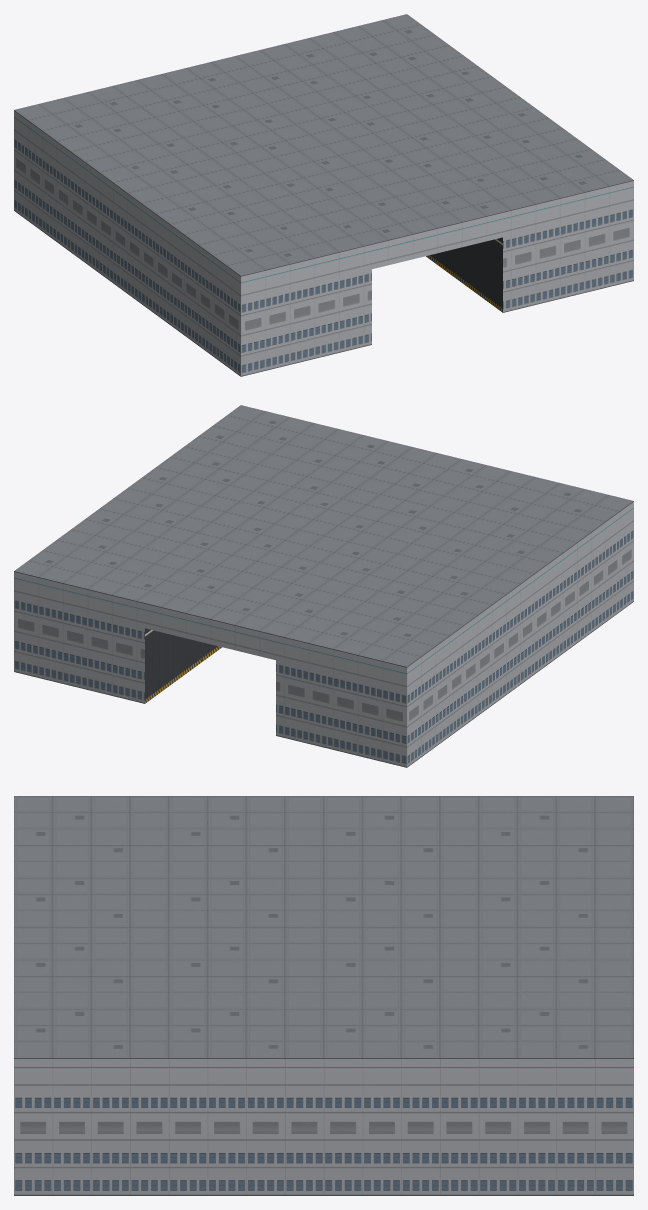
The model's file is BLD_POD_Gate_I.fbx.
The picture shows the model from 3 angles, top to bottom: view 1: azimuth 30°, elevation 25°; view 2: azimuth 150°, elevation 25°; view 3: azimuth 270°, elevation 25°; orthographic projection. The views are drawn at different scales.
Visible parts, largest first — view 1: BLD_POD_Gate_I; view 2: BLD_POD_Gate_I; view 3: BLD_POD_Gate_I.
Boxes of the visible parts, x1,y1,x2,y2 form: BLD_POD_Gate_I: [14, 14, 633, 376]; BLD_POD_Gate_I: [14, 405, 633, 767]; BLD_POD_Gate_I: [14, 796, 633, 1195].
Bounding box in the file's own units: 100 × 24.5 × 100.
